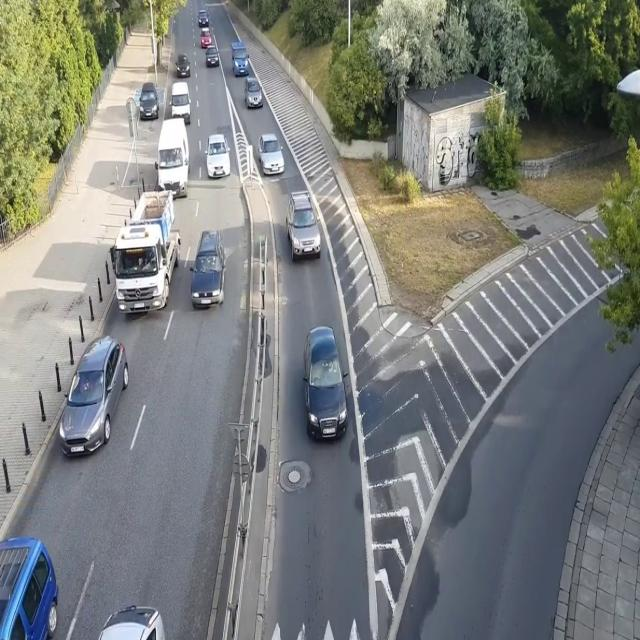car: (0, 534, 60, 640), (301, 326, 349, 443), (188, 228, 227, 314), (86, 603, 168, 640), (286, 188, 321, 260), (204, 131, 230, 182), (258, 133, 284, 177), (137, 82, 159, 118), (244, 76, 263, 110), (175, 52, 190, 78), (204, 45, 219, 69), (196, 8, 209, 28), (200, 27, 212, 47)
truck: (110, 190, 180, 315)
van: (155, 118, 190, 198), (170, 82, 192, 125), (230, 39, 250, 77)
